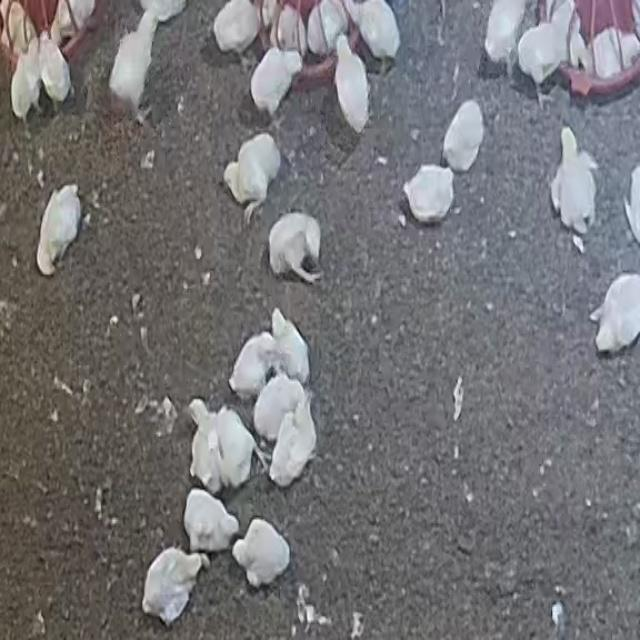chicken: (106, 8, 157, 132), (220, 129, 285, 223), (518, 25, 586, 111), (551, 127, 600, 240), (140, 546, 206, 625), (34, 181, 84, 278), (268, 211, 328, 289), (234, 513, 294, 591), (332, 33, 370, 134), (249, 44, 300, 118), (186, 487, 239, 556), (401, 163, 457, 226), (224, 329, 274, 398), (36, 29, 76, 113), (273, 302, 314, 383), (443, 98, 485, 174), (357, 0, 401, 63), (584, 22, 639, 72), (211, 0, 260, 55)
